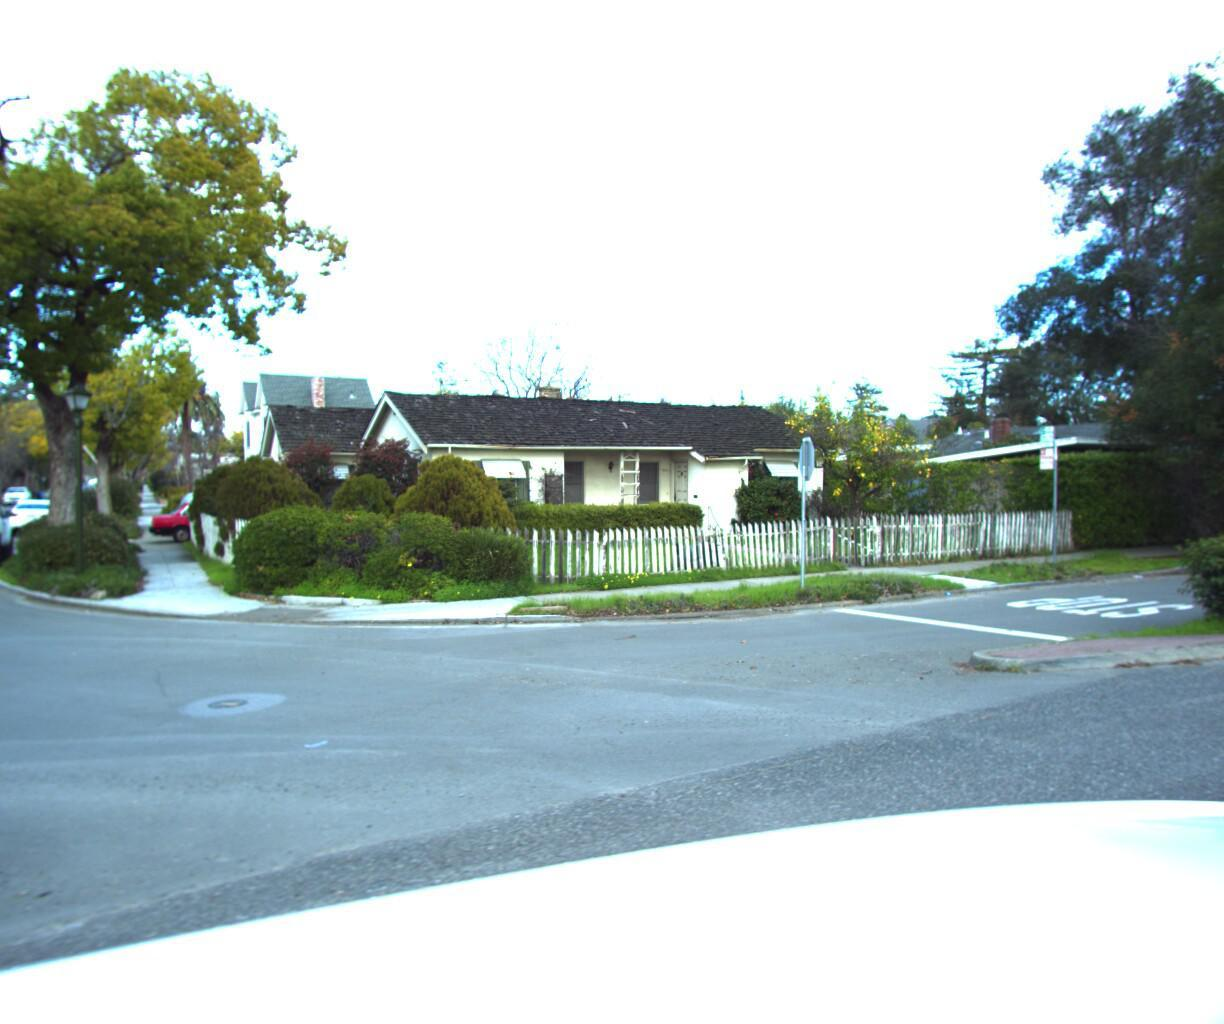car: (144, 493, 289, 552), (174, 489, 235, 542), (4, 496, 73, 541)
